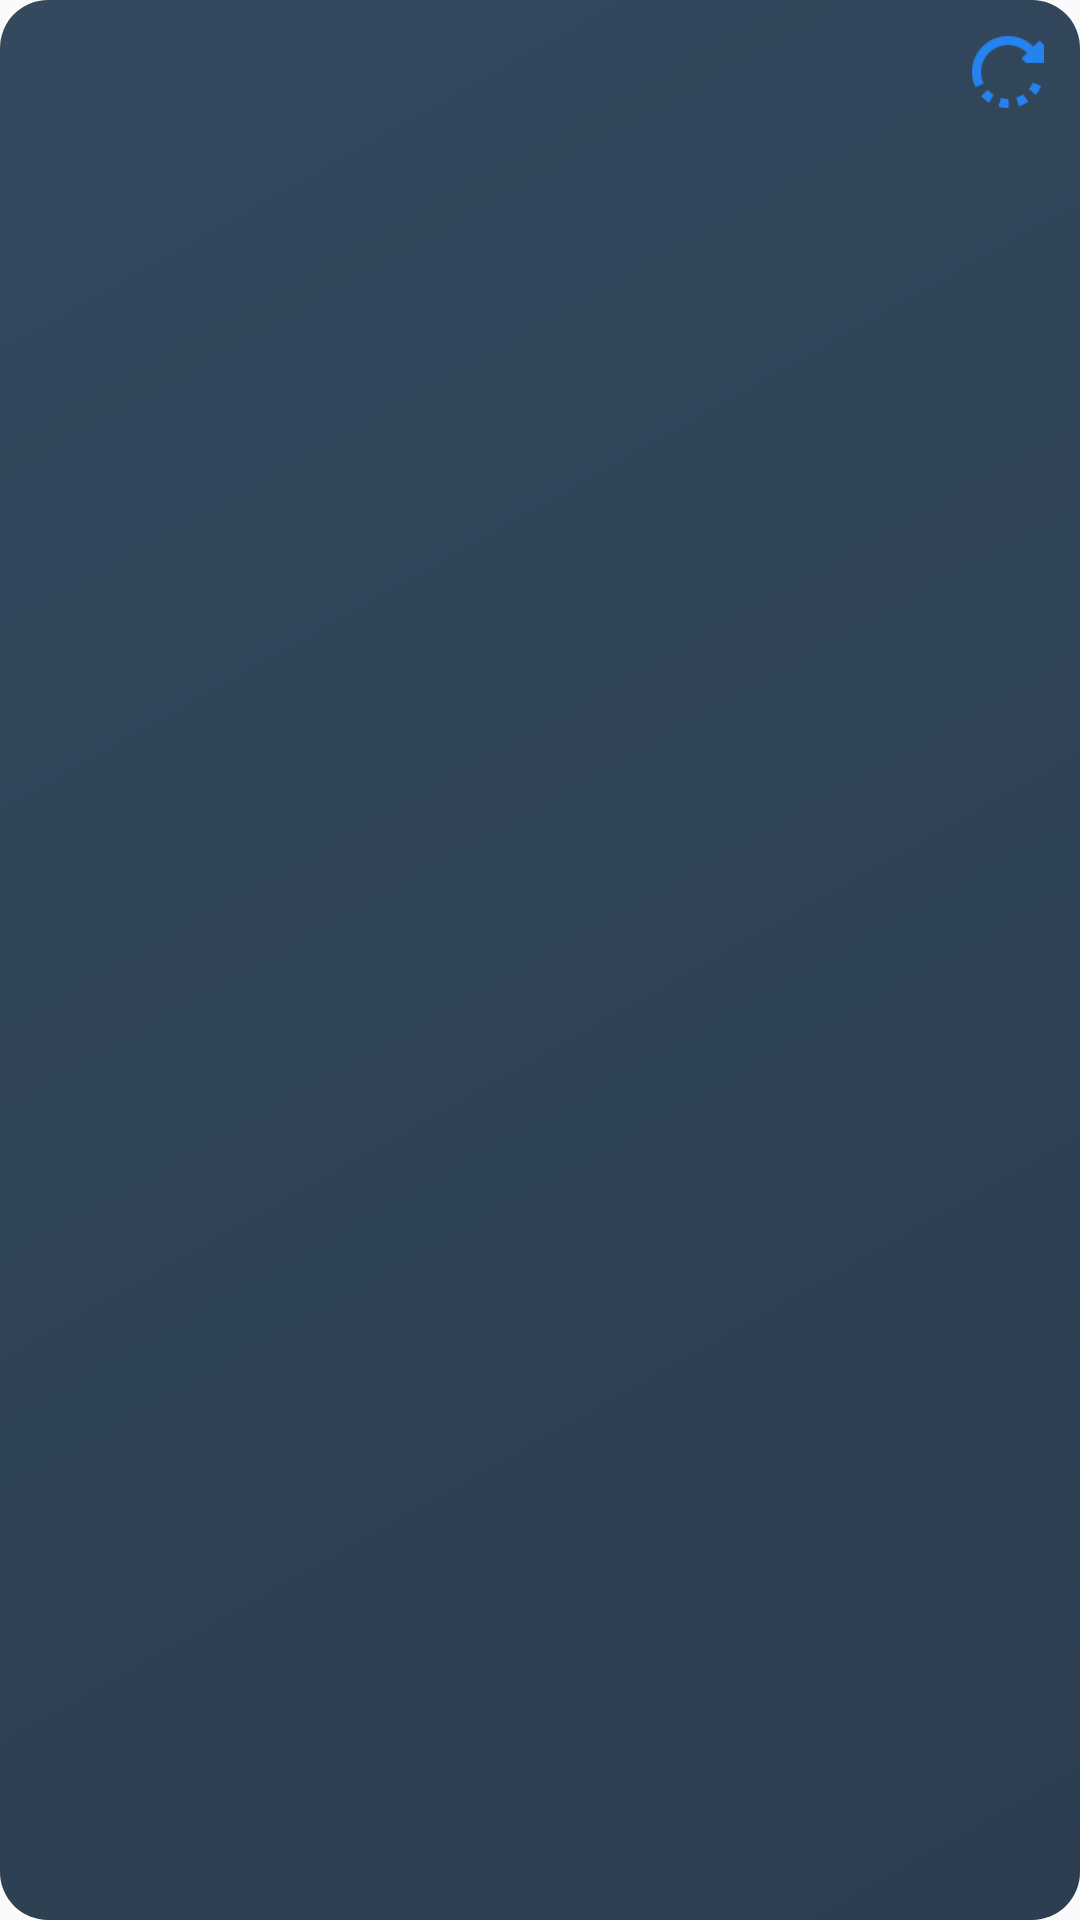

Screen size 1080*1920. Icon name, then its box in pixels as (x1, y1, x2, y2):
refresh: (972, 36, 1044, 108)
